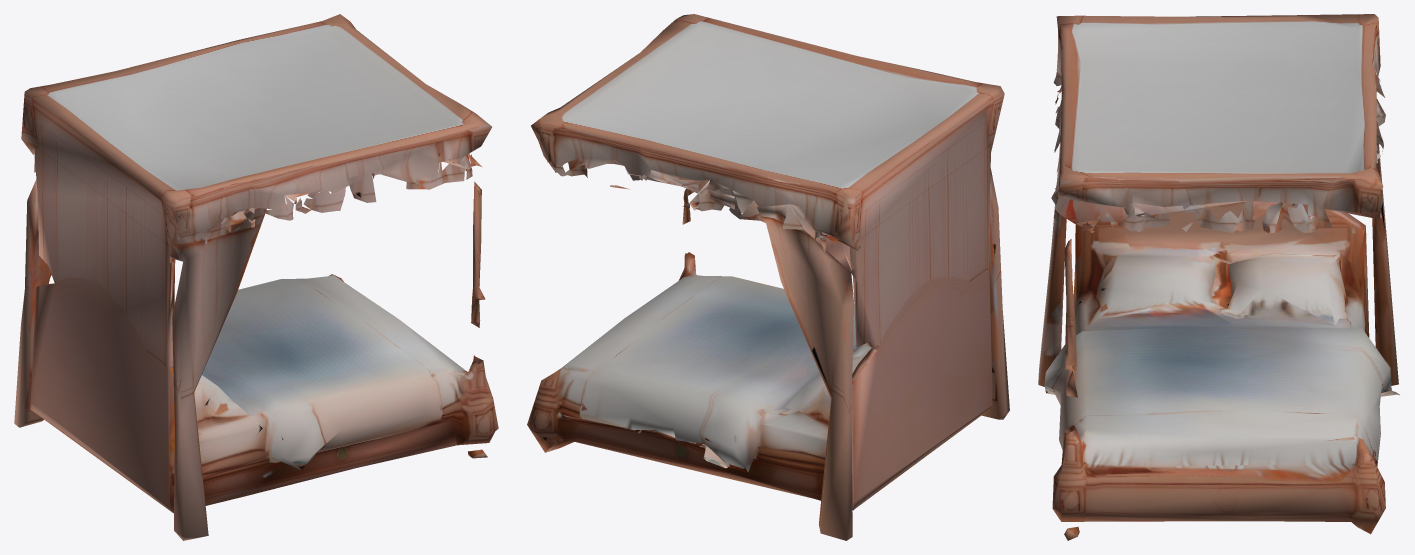
Rendered from Master Bed.fbx.
3 renders of one model, left to right at view 1: azimuth 30°, elevation 25°; view 2: azimuth 150°, elevation 25°; view 3: azimuth 270°, elevation 25°, orthographic. The views are drawn at different scales.
Parts seen in each view (by area): view 1: Master Bed; view 2: Master Bed; view 3: Master Bed.
Part boxes in pixels (box(x1,y1,x2,y2)): Master Bed: box(14, 14, 498, 540); Master Bed: box(527, 14, 1009, 540); Master Bed: box(1038, 14, 1399, 540).
Size of the model in its own units: 93.41 by 92.11 by 83.46.
1 material, 1 textured.
